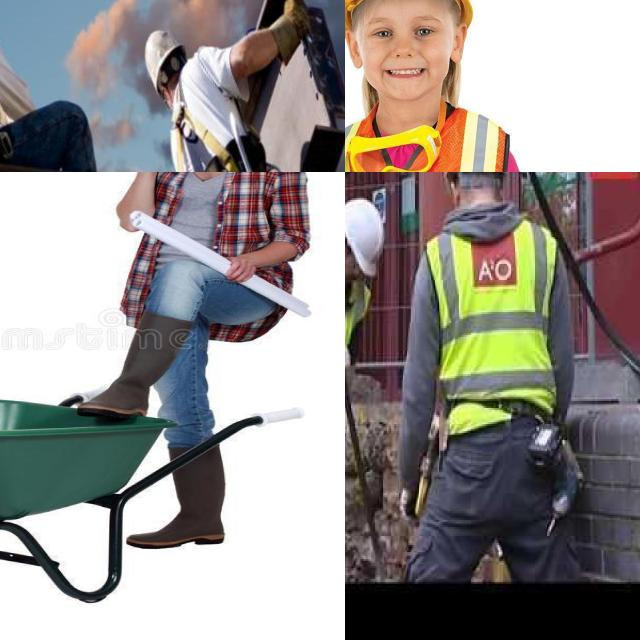No_Ear-Protection: (447, 17, 471, 68), (345, 25, 364, 70)
No_Glasses: (358, 12, 453, 49)
boots: (70, 309, 202, 419), (124, 434, 241, 551)
face_nomask: (345, 0, 462, 102)
hand_glove: (345, 335, 355, 381)
hand_noglove: (222, 239, 264, 297)
head_helmet: (345, 0, 475, 33), (345, 198, 385, 274)
person: (74, 172, 330, 567), (397, 172, 575, 580), (345, 0, 551, 172), (345, 198, 379, 582)
vest: (427, 218, 559, 431), (345, 113, 519, 172)
